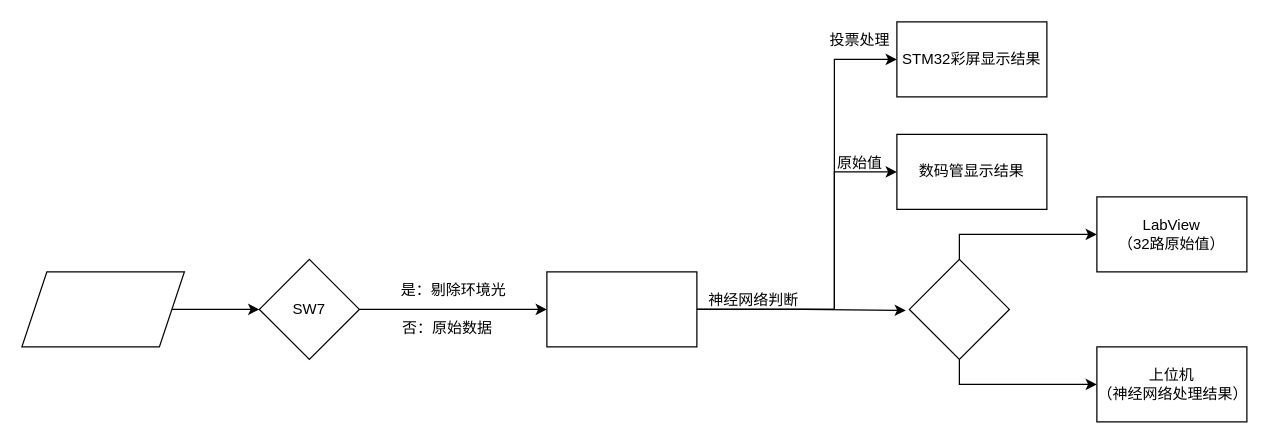
The diagram is 1269 pixels wide and 444 high, and some of its shapes have lost their labels. The shapes that lost their labels are listed below. From the top down, each one's box as (x1, y1, x2, y2) in pixels, then its label:
(21, 271, 184, 347): 处理得的光电 数字信号
(546, 271, 697, 347): FPGA
(908, 258, 1009, 359): SW6
